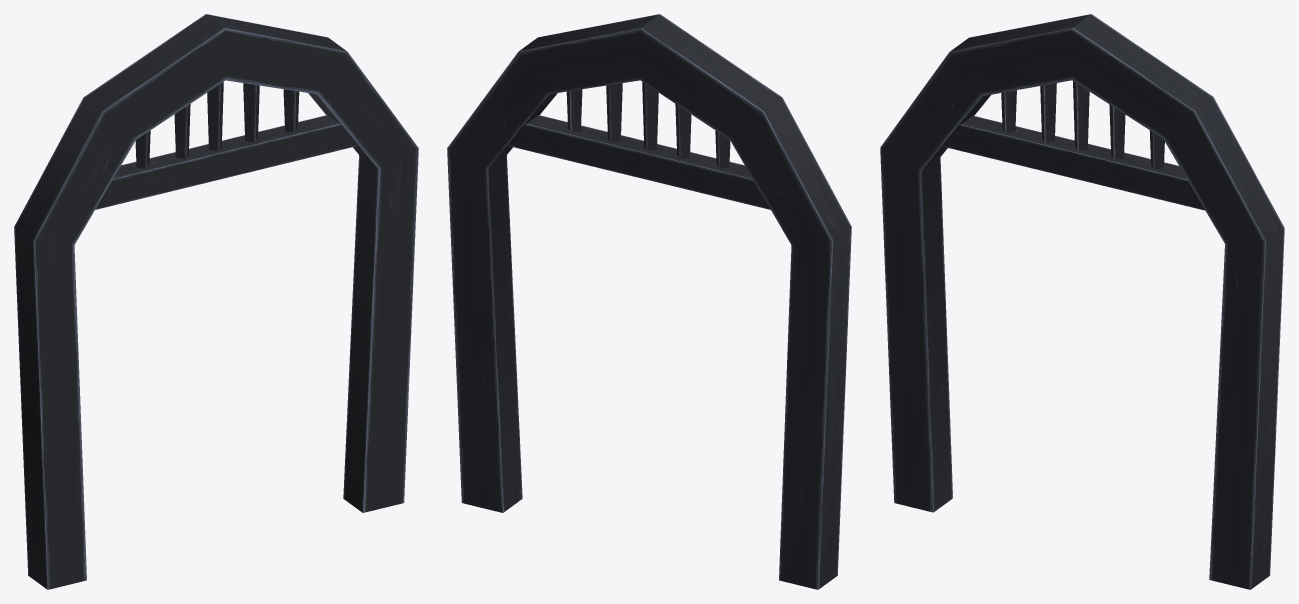
File: MOD_Gateway_Door_01_med_01_frame.fbx
3 renders of one model, left to right at view 1: azimuth 30°, elevation 25°; view 2: azimuth 150°, elevation 25°; view 3: azimuth 330°, elevation 25°, orthographic.
Visible parts, largest first — view 1: MOD_Gateway_Door_01_med_01_frame; view 2: MOD_Gateway_Door_01_med_01_frame; view 3: MOD_Gateway_Door_01_med_01_frame.
Boxes of the visible parts, x1,y1,x2,y2 form: MOD_Gateway_Door_01_med_01_frame: [14, 14, 418, 589]; MOD_Gateway_Door_01_med_01_frame: [447, 14, 851, 589]; MOD_Gateway_Door_01_med_01_frame: [880, 14, 1284, 589].
Size of what is drawn, in the model's own units: 269 by 346 by 23.76.
